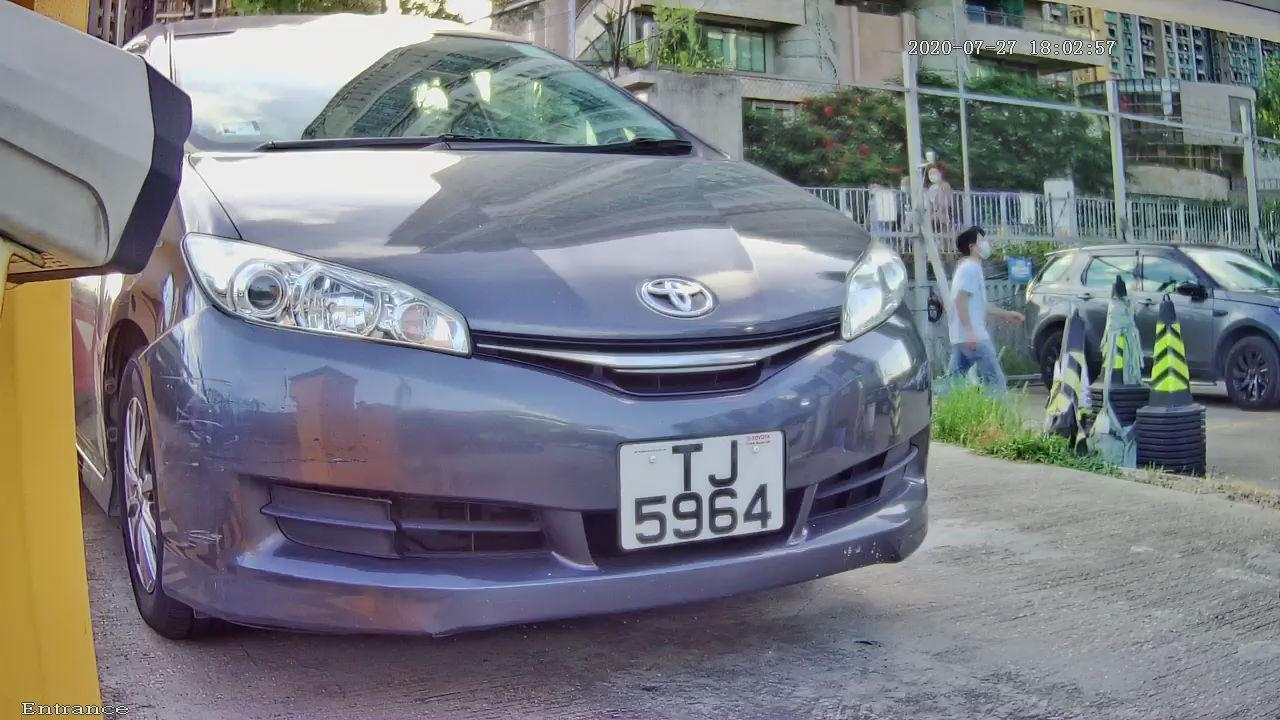privatecar: (52, 7, 1063, 679)
